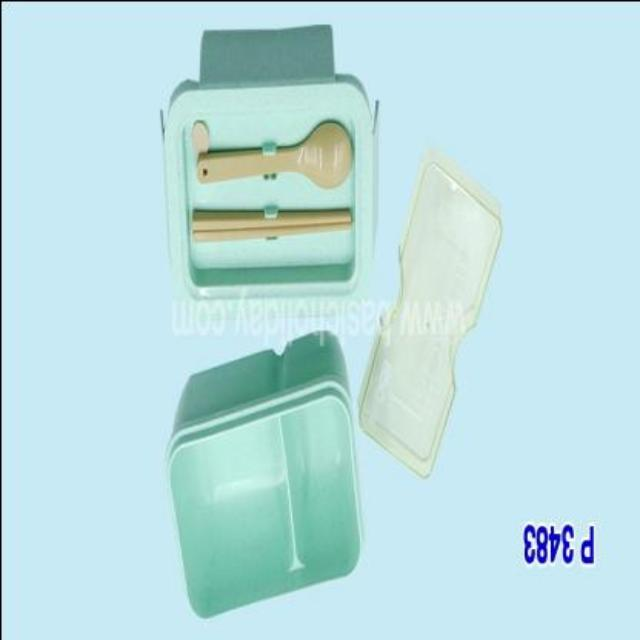plastic_box: (164, 330, 364, 620)
